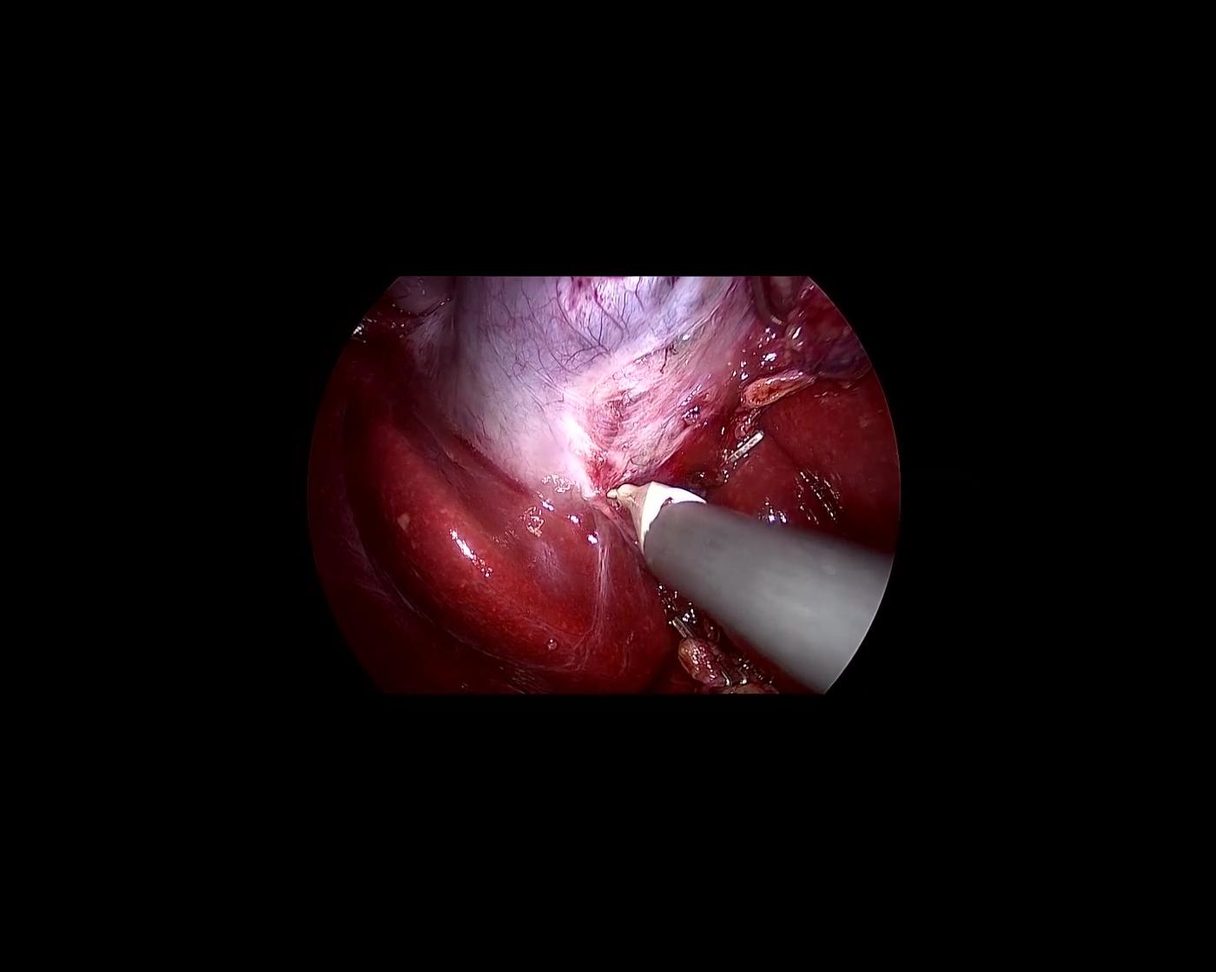Cautery: (568, 467, 894, 703)
Gallbladder: (405, 279, 759, 515)
Liver: (188, 289, 711, 819), (657, 364, 901, 553)
